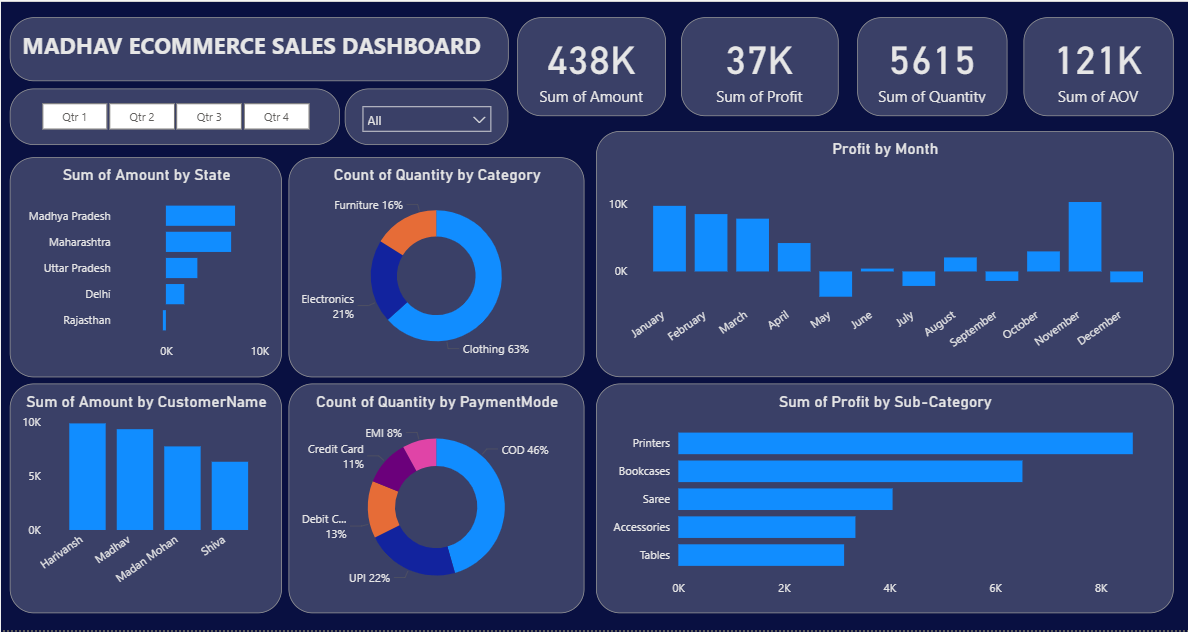

This screenshot's page, from the dashboard's own definition file:
{"tool":"powerbi","page":{"name":"Page 1","canvas":[1280,720],"ordinal":0},"visuals":[{"type":"textbox","box":[9.4,60.5,536.6,68.6],"z":0},{"type":"columnChart","title":" Profit by Month","fields":{"Y":["Sum(Details.Profit)"],"Category":["Orders.Order Date.Variation.Date Hierarchy.Month"]},"box":[640.1,182.9,621.3,264.9],"z":1000},{"type":"barChart","fields":{"Category":["Details.Sub-Category"],"Y":["Sum(Details.Profit)"]},"box":[640.1,454.6,621.3,247.4],"z":1001},{"type":"donutChart","fields":{"Category":["Details.PaymentMode"],"Y":["CountNonNull(Details.Quantity)"]},"box":[309.3,454.6,318.7,247.4],"z":1002},{"type":"donutChart","fields":{"Category":["Details.Category"],"Y":["CountNonNull(Details.Quantity)"]},"box":[309.3,211.1,318.7,236.7],"z":1003},{"type":"card","fields":{"Values":["Sum(Details.Amount)"]},"box":[555.4,60.5,160,106.2],"z":1004},{"type":"card","fields":{"Values":["Sum(Details.Profit)"]},"box":[731.6,60.5,169.4,106.2],"z":1005},{"type":"card","fields":{"Values":["Sum(Details.Quantity)"]},"box":[921.2,60.5,161.4,106.2],"z":1006},{"type":"card","fields":{"Values":["Sum(Details.AOV)"]},"box":[1100.1,60.5,161.4,106.2],"z":1007},{"type":"barChart","title":"Sum of Amount by State","fields":{"Y":["Sum(Details.Profit)"],"Category":["Orders.State"]},"box":[9.4,211.1,293.2,236.7],"z":1008},{"type":"columnChart","fields":{"Category":["Orders.CustomerName"],"Y":["Sum(Details.Amount)"]},"box":[9,455,293,247],"z":1009},{"type":"slicer","fields":{"Values":["Orders.Order Date.Variation.Date Hierarchy.Quarter"]},"box":[9.4,137.2,355,60.5],"z":1010},{"type":"slicer","fields":{"Values":["Orders.State"]},"box":[369.8,137.2,176.2,60.5],"z":1011}]}

Visuals, with their boxes in screenshot pixels (x1, y1, x2, y2):
textbox: [6, 13, 504, 77]
" Profit by Month" columnChart: [592, 127, 1169, 373]
barChart - Details.Sub-Category x Sum(Details.Profit): [592, 379, 1169, 609]
donutChart - Details.PaymentMode x CountNonNull(Details.Quantity): [284, 379, 580, 609]
donutChart - Details.Category x CountNonNull(Details.Quantity): [284, 153, 580, 373]
card - Sum(Details.Amount): [513, 13, 662, 112]
card - Sum(Details.Profit): [677, 13, 834, 112]
card - Sum(Details.Quantity): [853, 13, 1003, 112]
card - Sum(Details.AOV): [1019, 13, 1169, 112]
"Sum of Amount by State" barChart: [6, 153, 278, 373]
columnChart - Orders.CustomerName x Sum(Details.Amount): [5, 379, 278, 609]
slicer - Orders.Order Date.Variation.Date Hierarchy.Quarter: [6, 84, 335, 140]
slicer - Orders.State: [341, 84, 504, 140]
